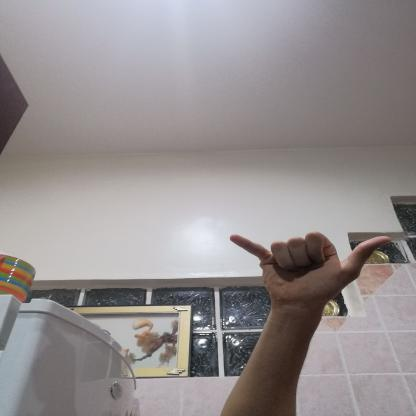YA: (215, 221, 405, 314)
